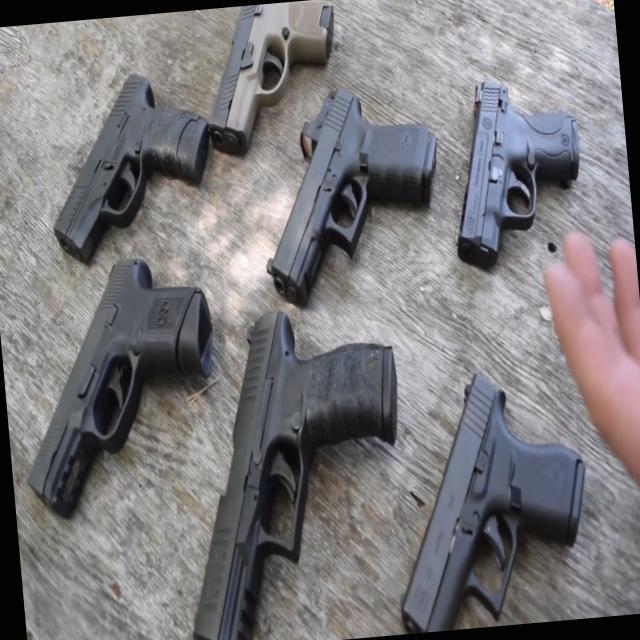handgun: (137, 285, 424, 639), (329, 363, 623, 638), (0, 247, 244, 531), (242, 86, 449, 308), (50, 51, 226, 274), (180, 0, 359, 167), (449, 62, 586, 266)
